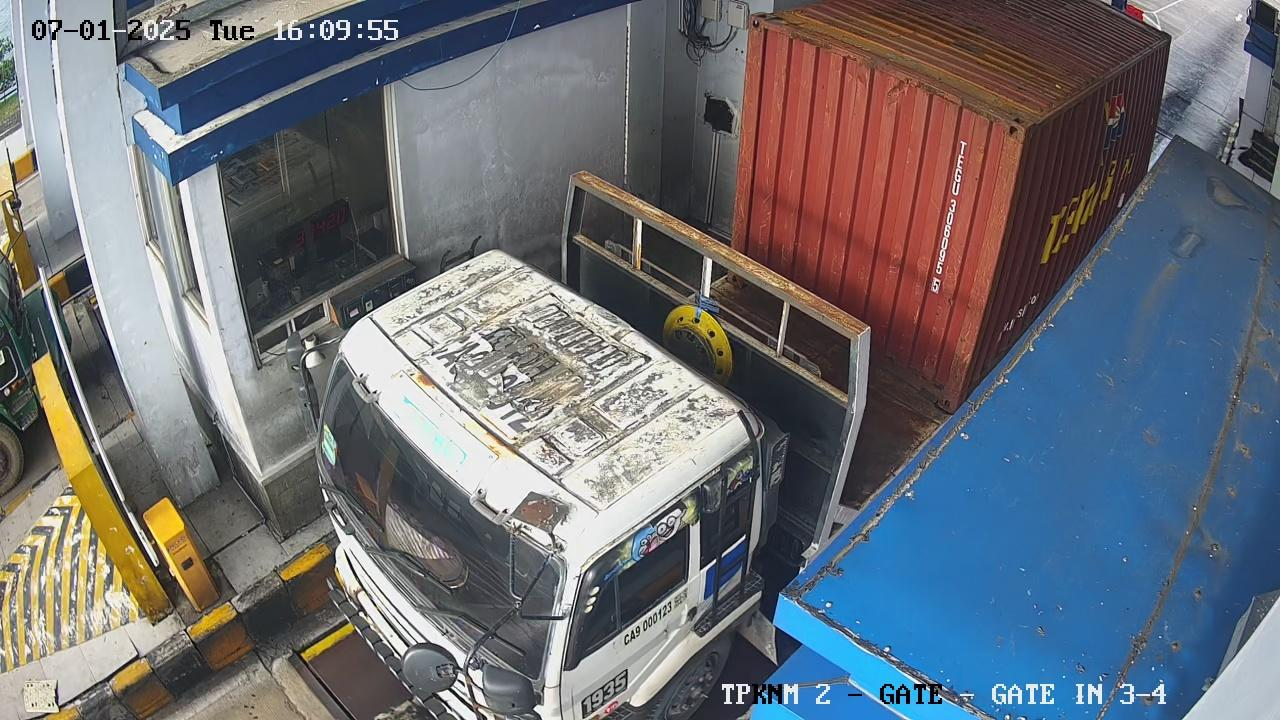Container_ID_Vertikal: (924, 139, 974, 295)
truck_id: (603, 586, 696, 660)
